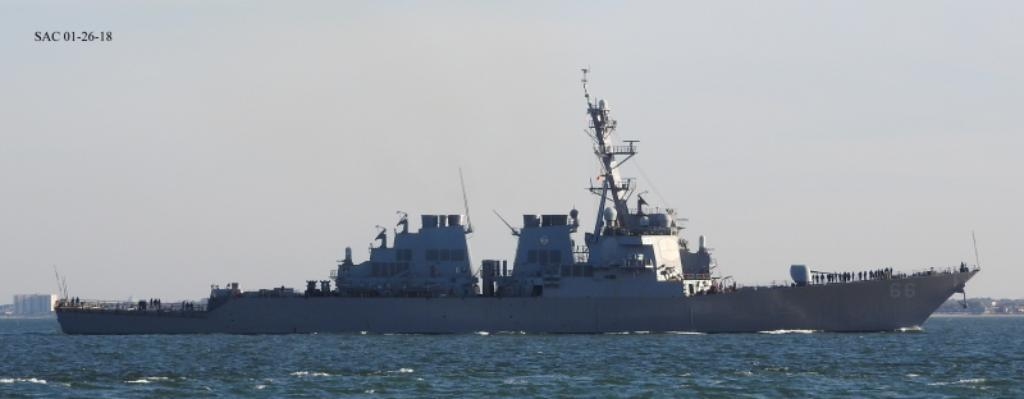Warship: (42, 64, 986, 332)
